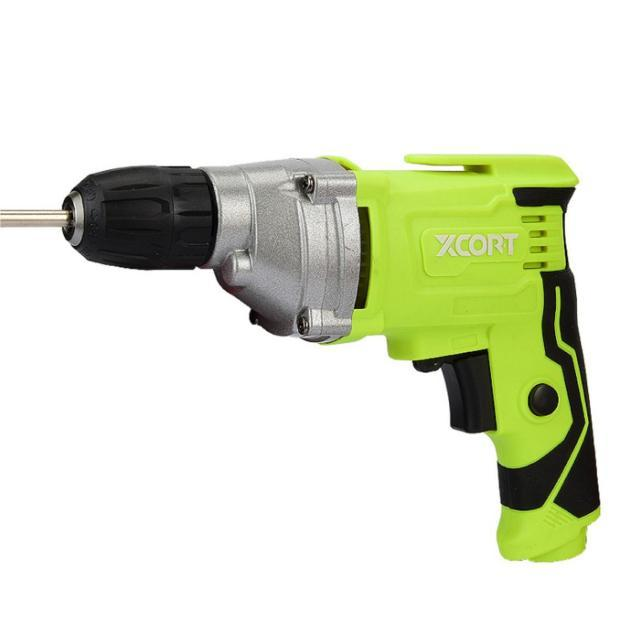drill: (0, 154, 601, 564)
